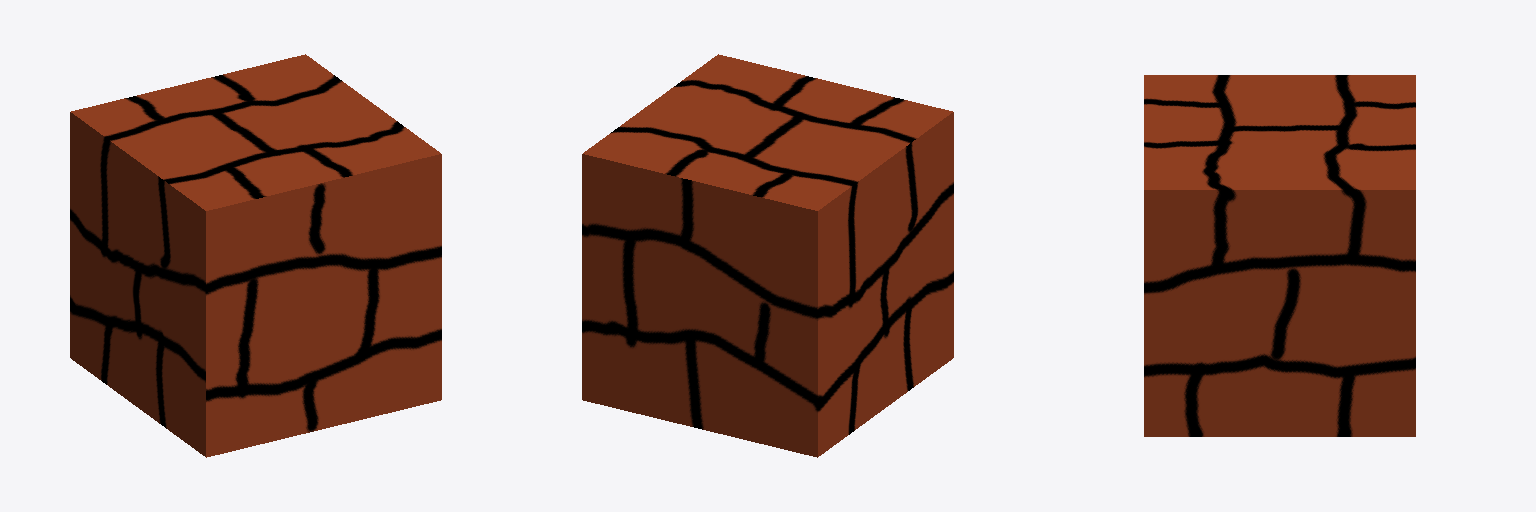
The picture shows the model from 3 angles: view 1: azimuth 30°, elevation 25°; view 2: azimuth 150°, elevation 25°; view 3: azimuth 270°, elevation 25°; orthographic projection.
Parts seen in each view (by area): view 1: Cube; view 2: Cube; view 3: Cube.
Boxes of the visible parts, box(x1,y1,x2,y2) form: Cube: box(70, 54, 441, 457); Cube: box(582, 54, 953, 457); Cube: box(1144, 75, 1415, 436).
Bounding box in the file's own units: 1 × 1 × 1.
1 materials, 1 textured.